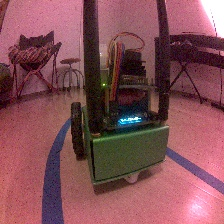rob: (69, 48, 170, 186)
